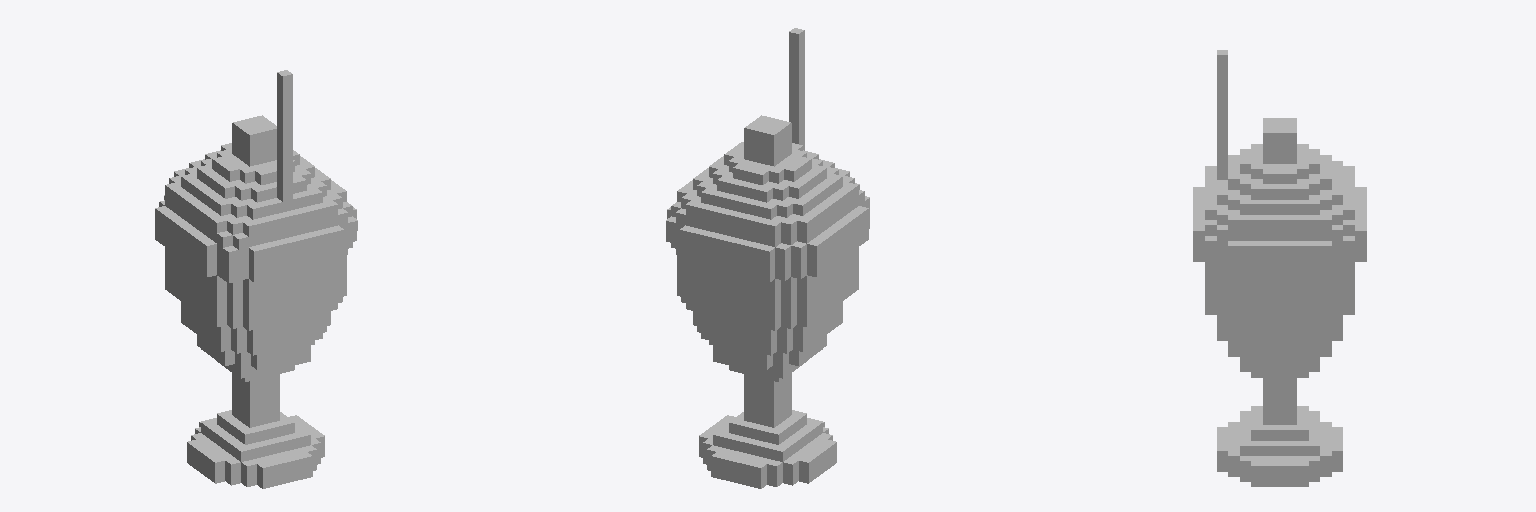
File: bananashake.obj
3 renders of one model, left to right at view 1: azimuth 30°, elevation 25°; view 2: azimuth 150°, elevation 25°; view 3: azimuth 270°, elevation 25°, orthographic.
Visible parts, largest first — view 1: object 1; view 2: object 1; view 3: object 1.
Boxes of the visible parts, x1=… form: object 1: x1=155, y1=70, x2=357, y2=488; object 1: x1=666, y1=28, x2=869, y2=488; object 1: x1=1193, y1=50, x2=1366, y2=486.
Bounding box in the file's own units: 1.5 × 3.9 × 1.5.